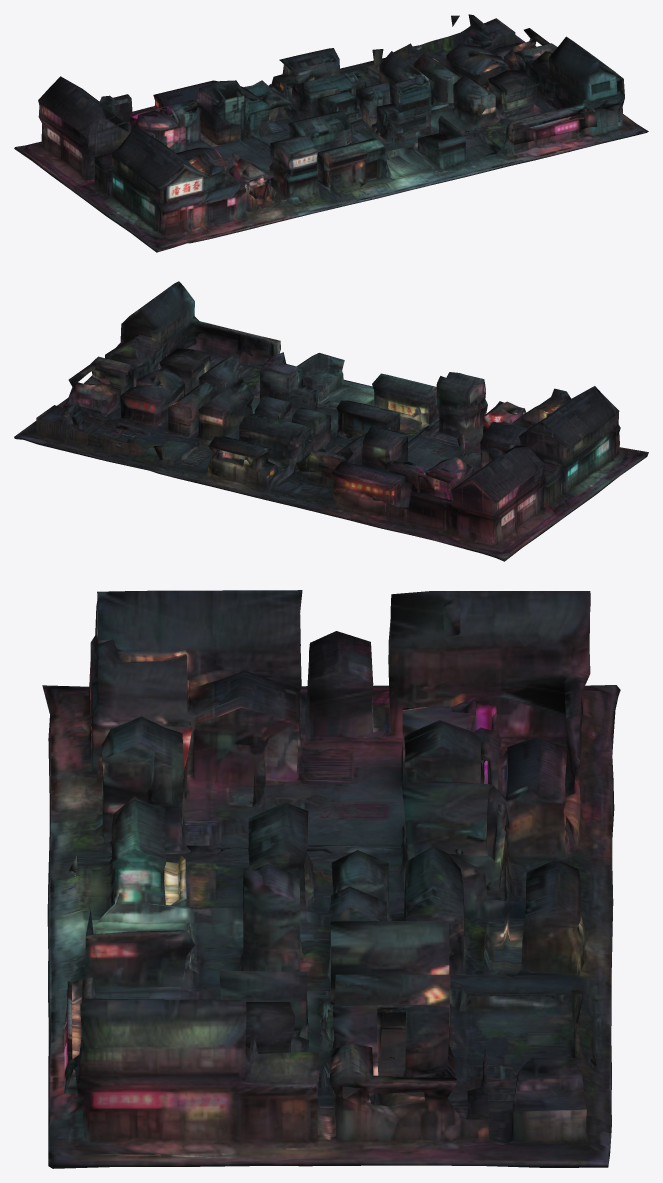
Rendered from housesA.glb.
3 views of the same model, one above another, from view 1: azimuth 30°, elevation 25°; view 2: azimuth 150°, elevation 25°; view 3: azimuth 270°, elevation 25° (orthographic). The views are drawn at different scales.
Size of the model in its own units: 2.01 by 0.2777 by 1.02.
1 material, 1 textured.
